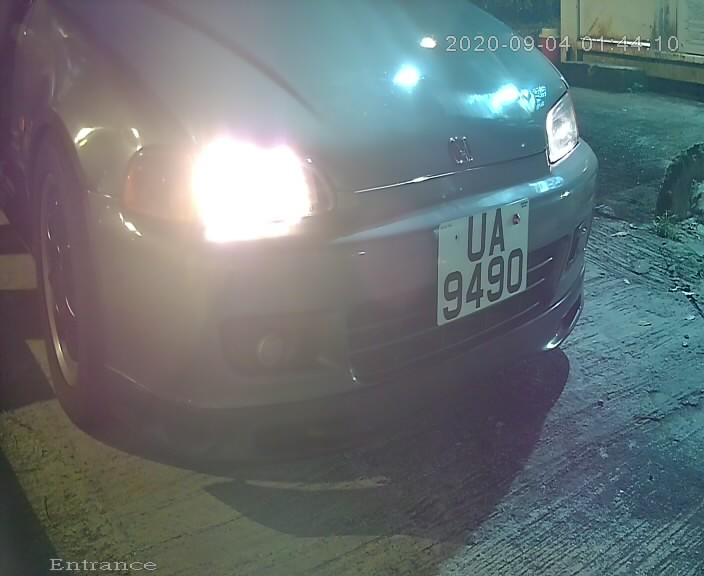License Plate: (431, 181, 529, 332)
